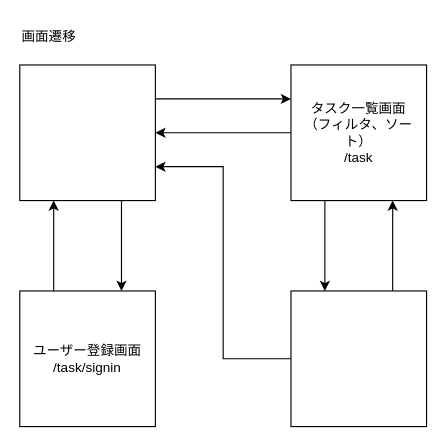
This 446x446 diagram has some shape labels left out. Each missing label, with the box of its shape:
タスク登録画面 /task/new: (290, 290, 427, 427)
ログイン画面 /task/login: (19, 64, 155, 201)
